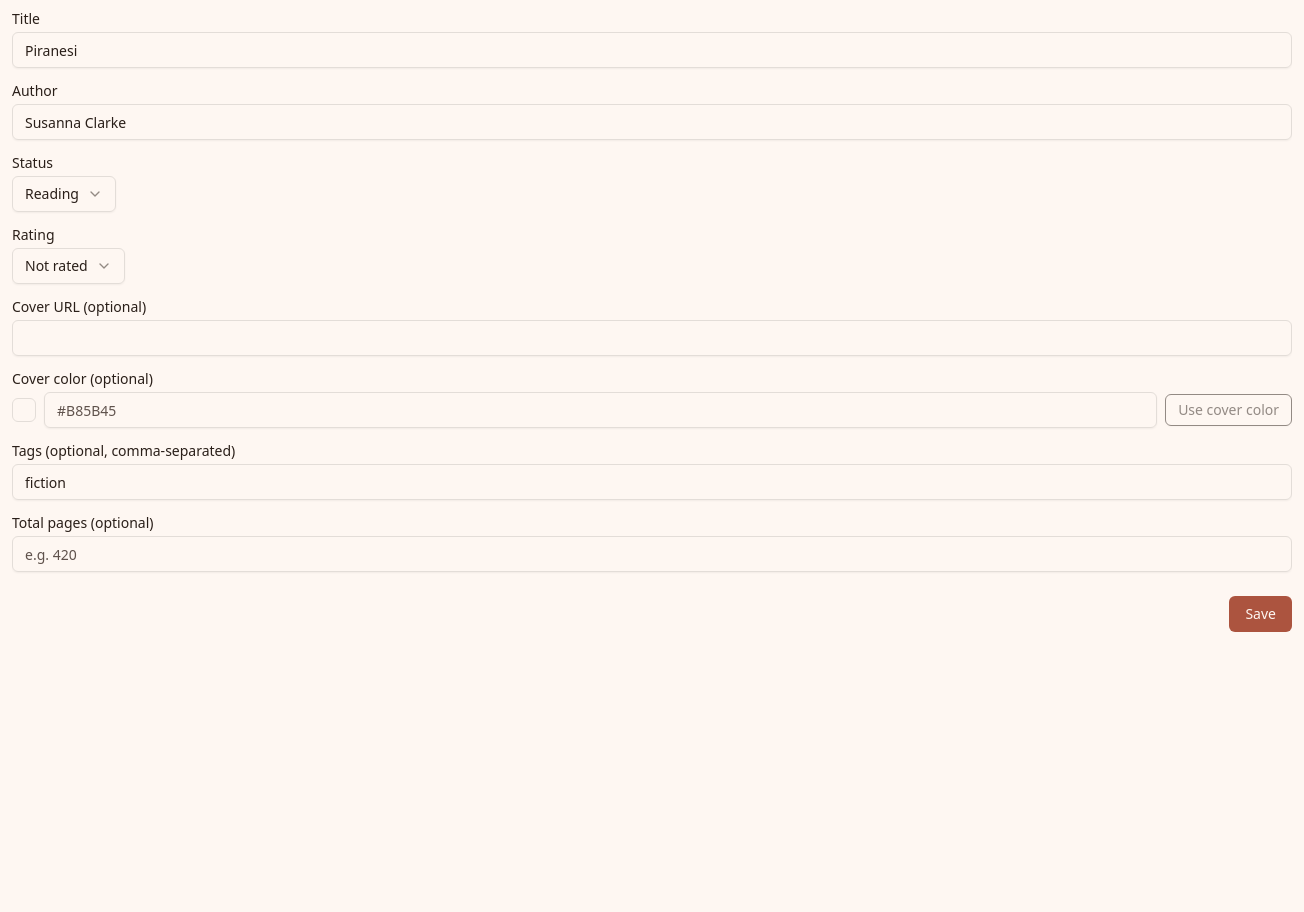
Test: BookForm › total pages field (spec 015) › rejects a zero totalPages with an inline error
Type "0" into the number field labelled "Total pages (optional)" at (652,554), box [12,536,1292,572]
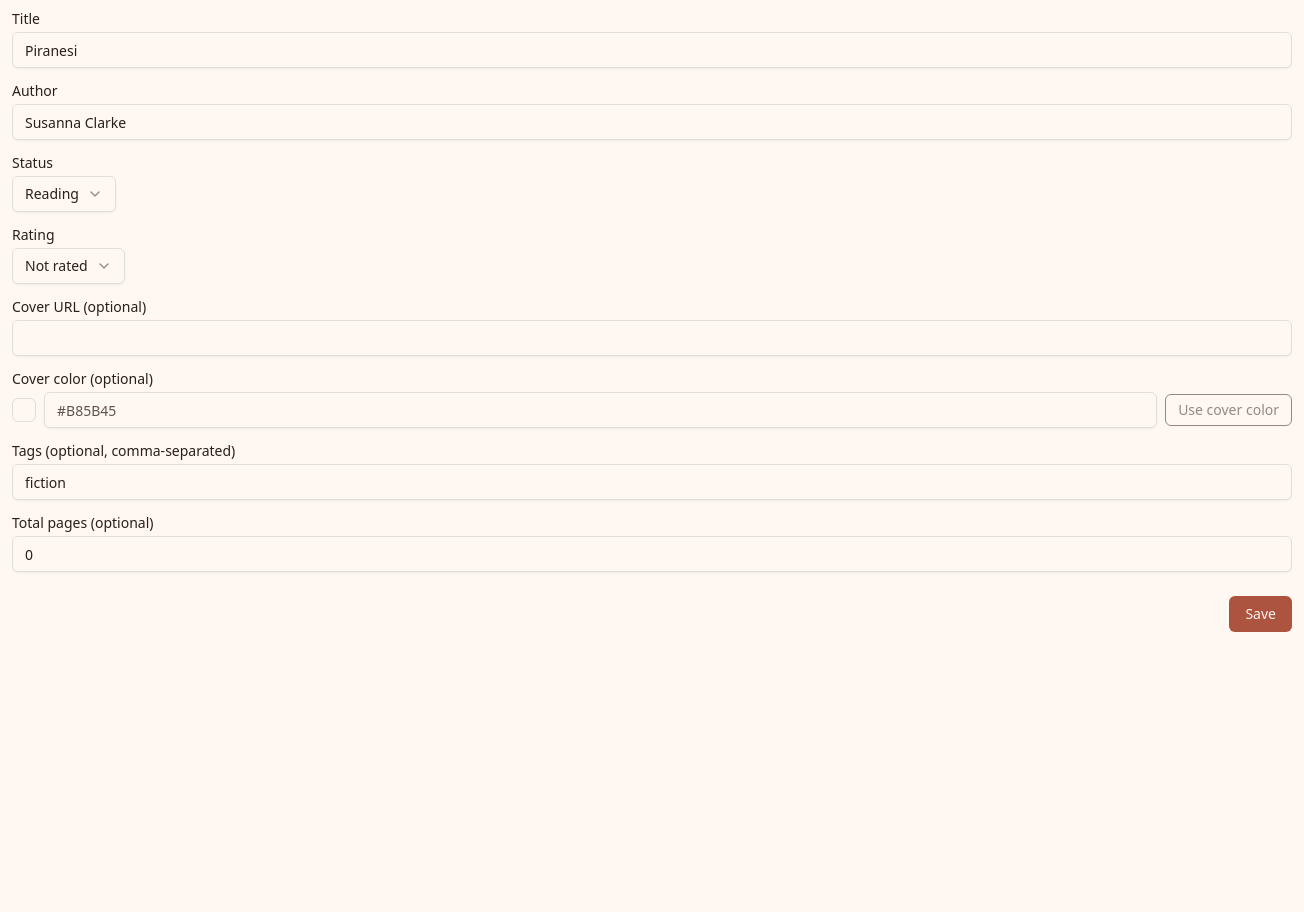
Click the button "Save" at (1261,614), box [1229,596,1292,632]
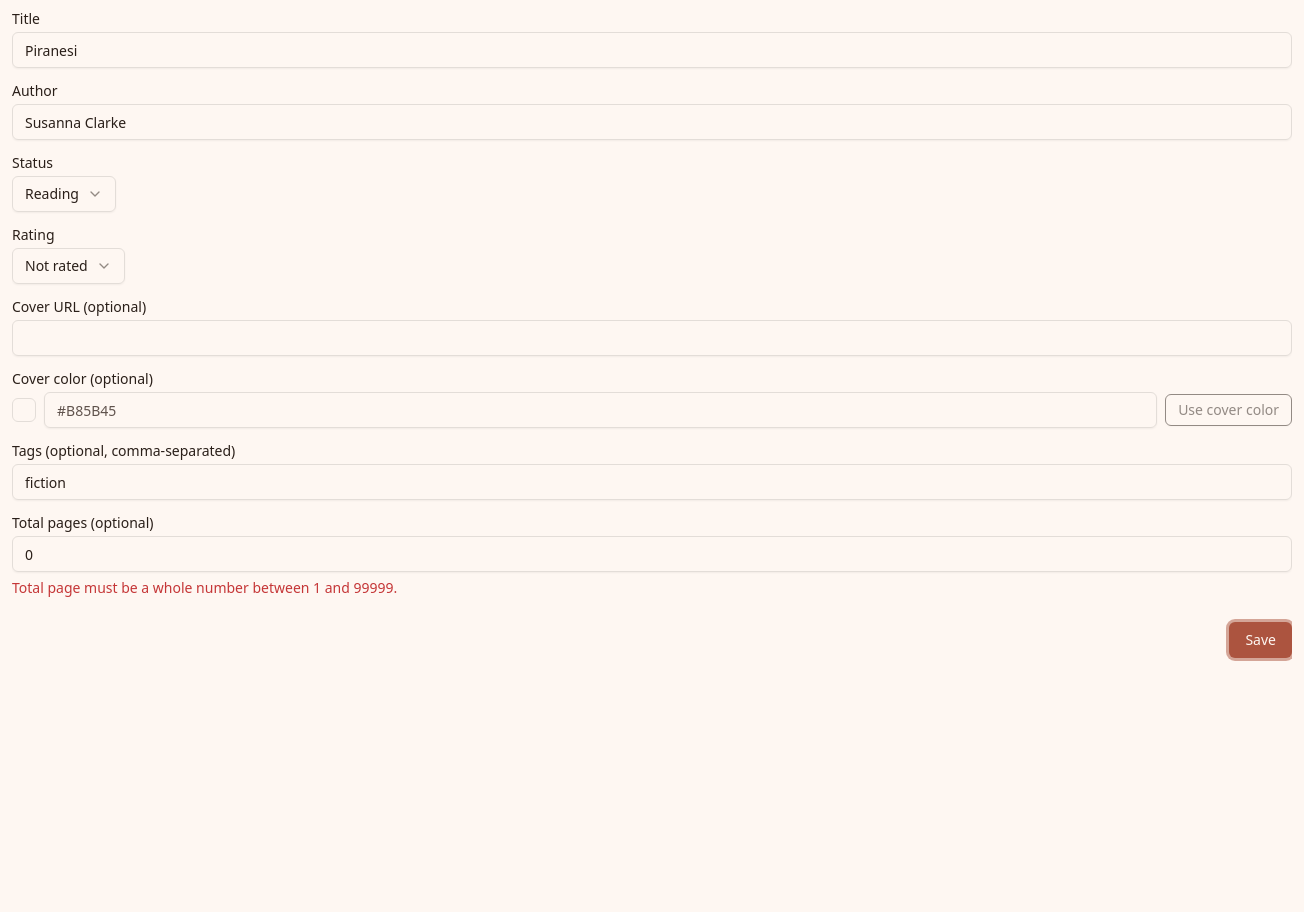
Result: the text "Total page must be a whole number between 1 and 99999." is shown at [12,578,397,597]
